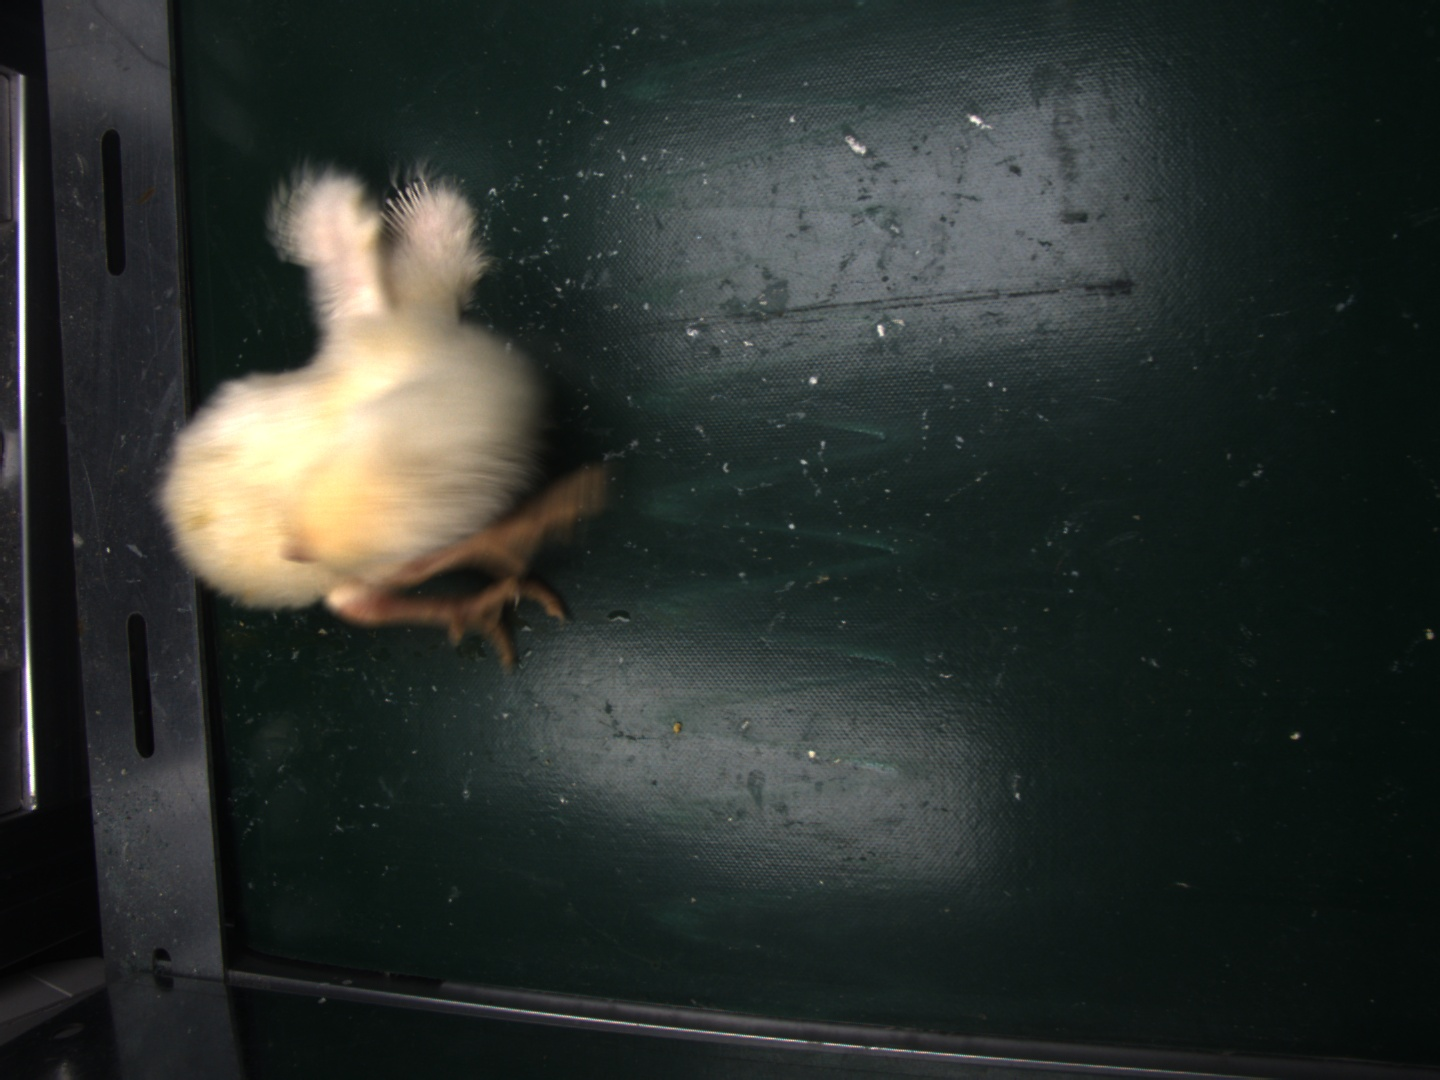male: (379, 177, 435, 238)
